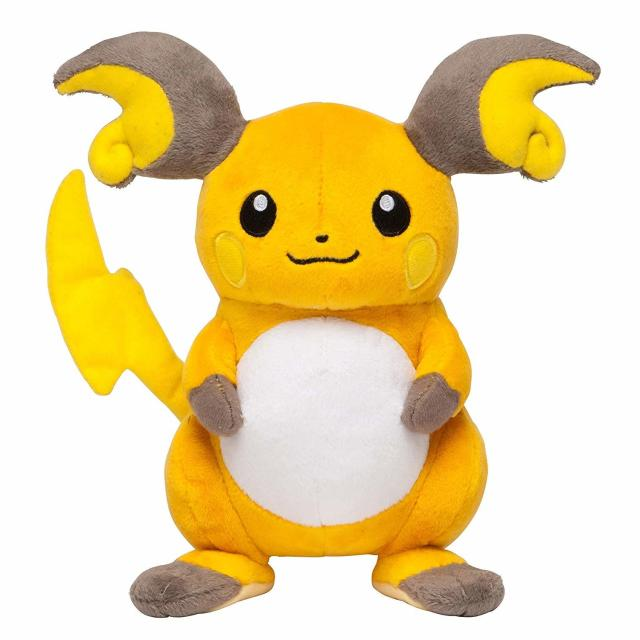Raichu: (109, 37, 531, 622)
